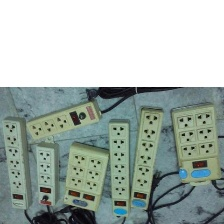three_eye_plug: (167, 99, 224, 188), (125, 102, 167, 212), (59, 138, 111, 214), (22, 96, 103, 141), (105, 116, 136, 219), (0, 115, 33, 210), (33, 139, 62, 209)
